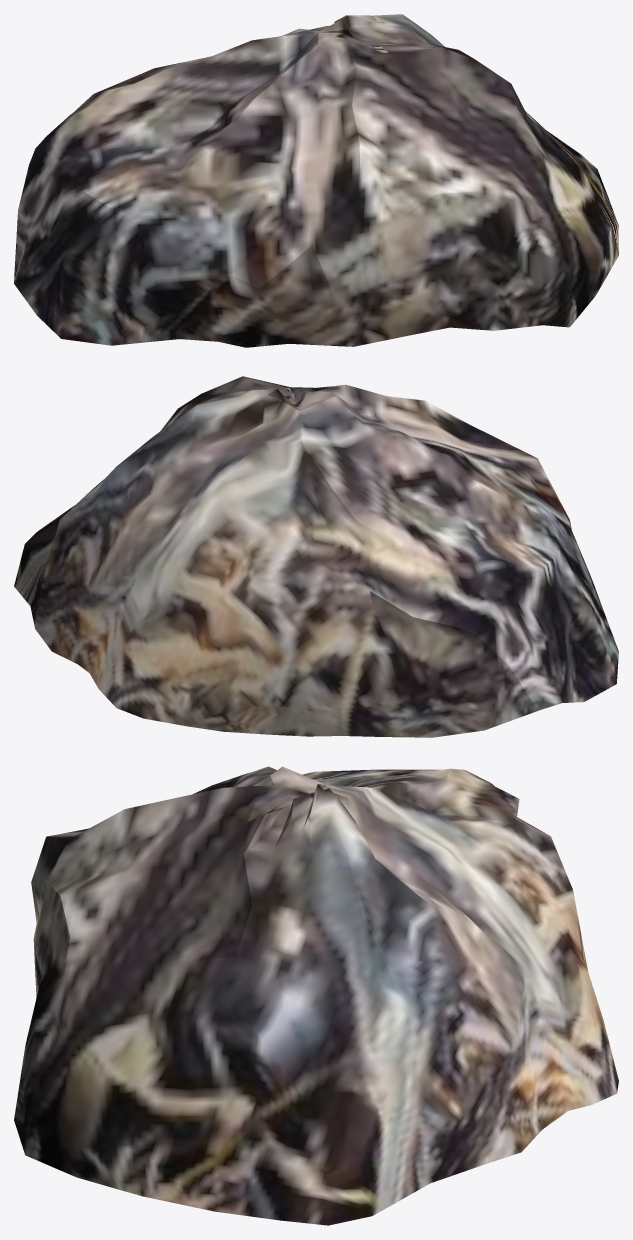
File: JunkPile.glb
The picture shows the model from 3 angles, top to bottom: view 1: azimuth 30°, elevation 25°; view 2: azimuth 150°, elevation 25°; view 3: azimuth 270°, elevation 25°; orthographic projection. The views are drawn at different scales.
Parts seen in each view (by area): view 1: Retopo_Sphere; view 2: Retopo_Sphere; view 3: Retopo_Sphere.
Boxes of the visible parts, x1,y1,x2,y2 form: Retopo_Sphere: [14, 14, 618, 347]; Retopo_Sphere: [14, 376, 618, 737]; Retopo_Sphere: [14, 766, 618, 1225].
Bounding box in the file's own units: 40.66 × 17.45 × 31.01.
Materials: 1 (1 with a texture image).
